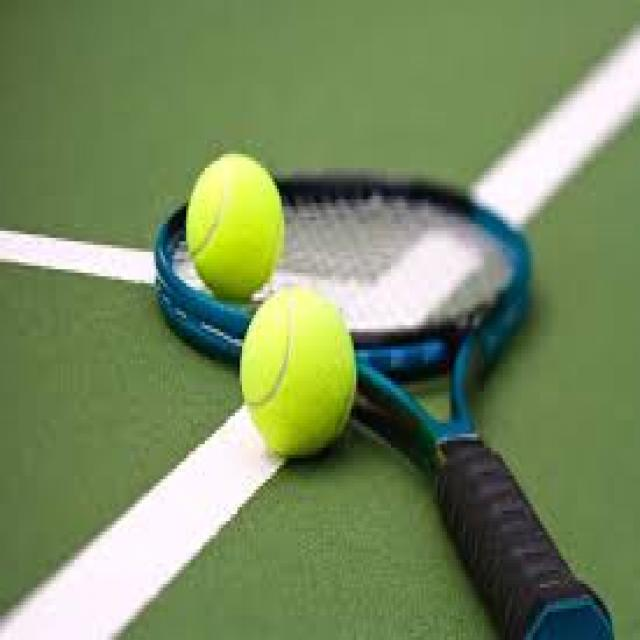Tennis-Ball: (238, 297, 364, 460), (185, 153, 278, 297)
